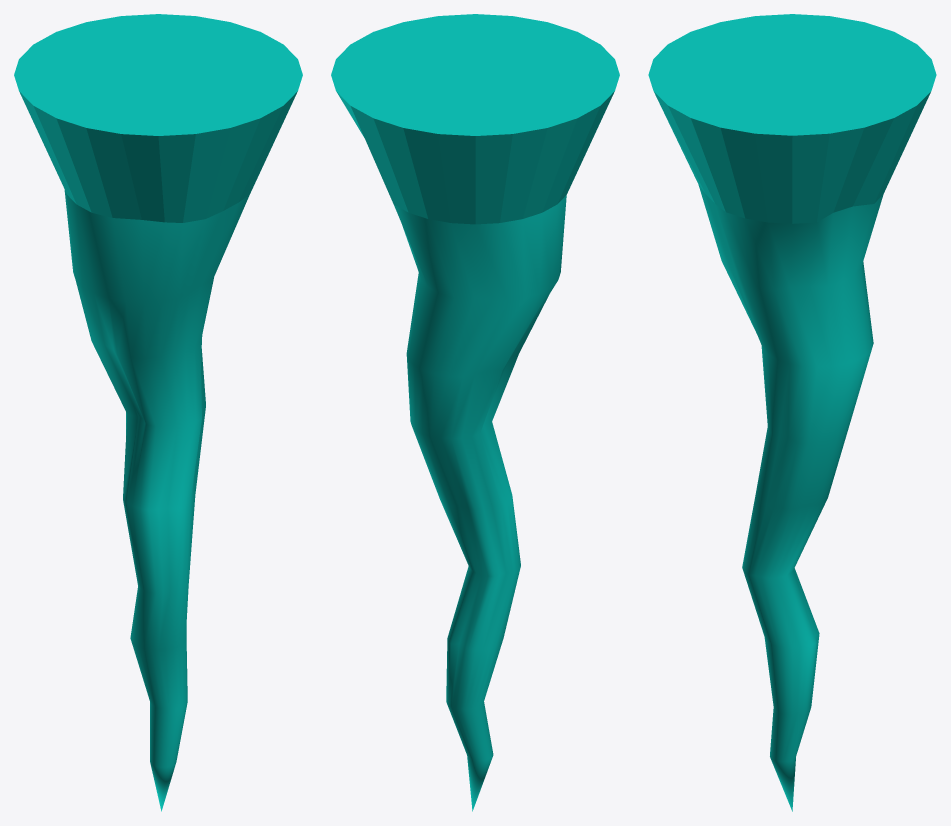
File: turara.fbx
The picture shows the model from 3 angles, left to right: view 1: azimuth 30°, elevation 25°; view 2: azimuth 150°, elevation 25°; view 3: azimuth 270°, elevation 25°; orthographic projection.
Parts seen in each view (by area): view 1: Cone001; view 2: Cone001; view 3: Cone001.
Boxes of the visible parts, x1,y1,x2,y2 form: Cone001: (14, 14, 302, 811); Cone001: (331, 14, 619, 811); Cone001: (648, 14, 936, 811).
Bounding box in the file's own units: 28.02 × 78.93 × 28.02.
